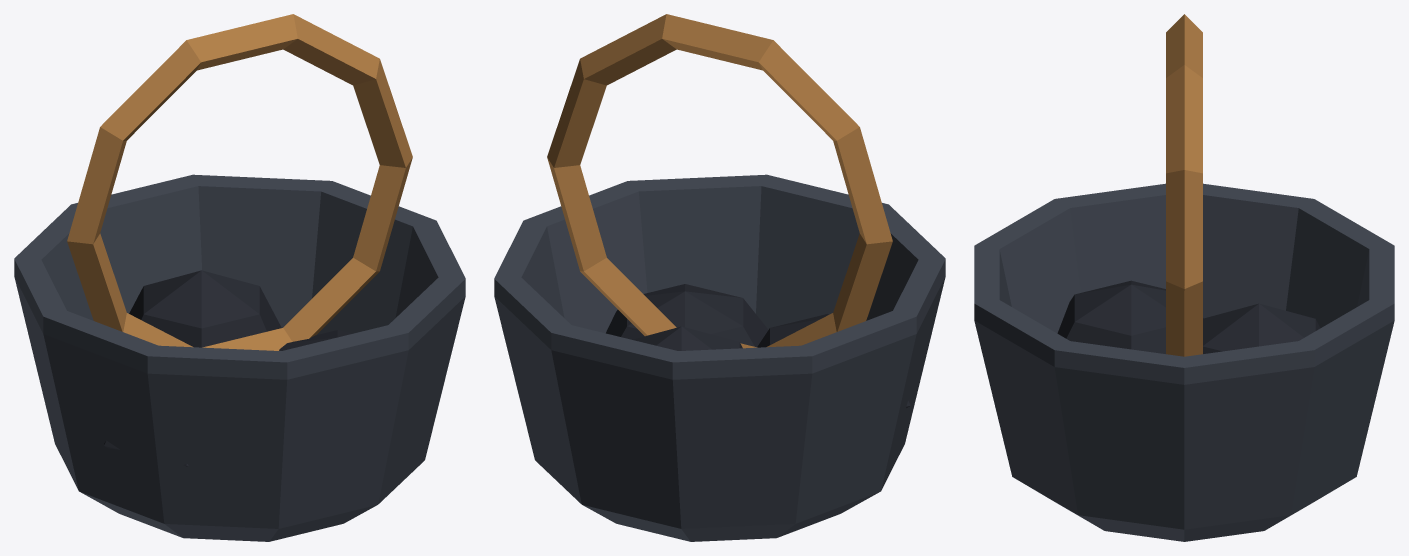
File: 10_Coal_Scuttle.glb
3 views of the same model, side by side, from view 1: azimuth 30°, elevation 25°; view 2: azimuth 150°, elevation 25°; view 3: azimuth 270°, elevation 25° (orthographic). The views are drawn at different scales.
Visible parts, largest first — view 1: 10_Coal_Scuttle__Body; view 2: 10_Coal_Scuttle__Body; view 3: 10_Coal_Scuttle__Body.
Boxes of the visible parts, x1,y1,x2,y2 form: 10_Coal_Scuttle__Body: [14, 14, 465, 541]; 10_Coal_Scuttle__Body: [494, 14, 945, 541]; 10_Coal_Scuttle__Body: [974, 14, 1394, 541].
Bounding box in the file's own units: 1.66 × 1.84 × 1.58.
Materials: 1 (1 with a texture image).
